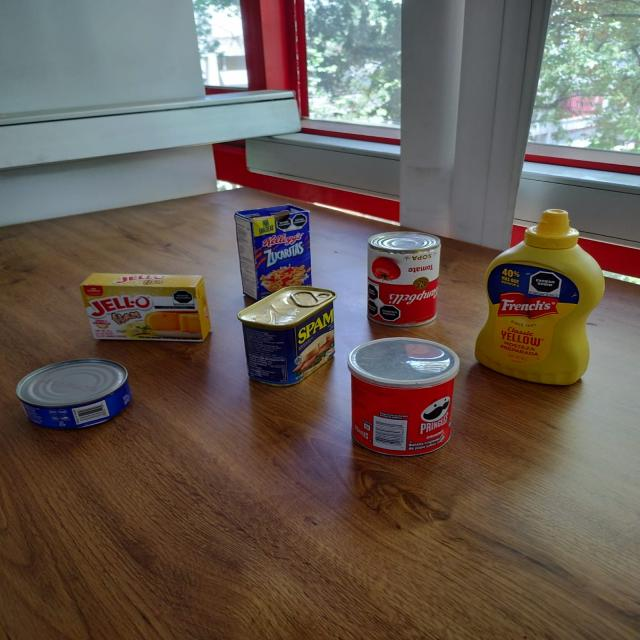can of cream: (365, 231, 440, 328)
can of tuna: (14, 358, 130, 429)
cereal: (233, 204, 311, 302)
chips: (347, 338, 458, 454)
mustard: (477, 208, 605, 384)
spam: (236, 285, 336, 386)
